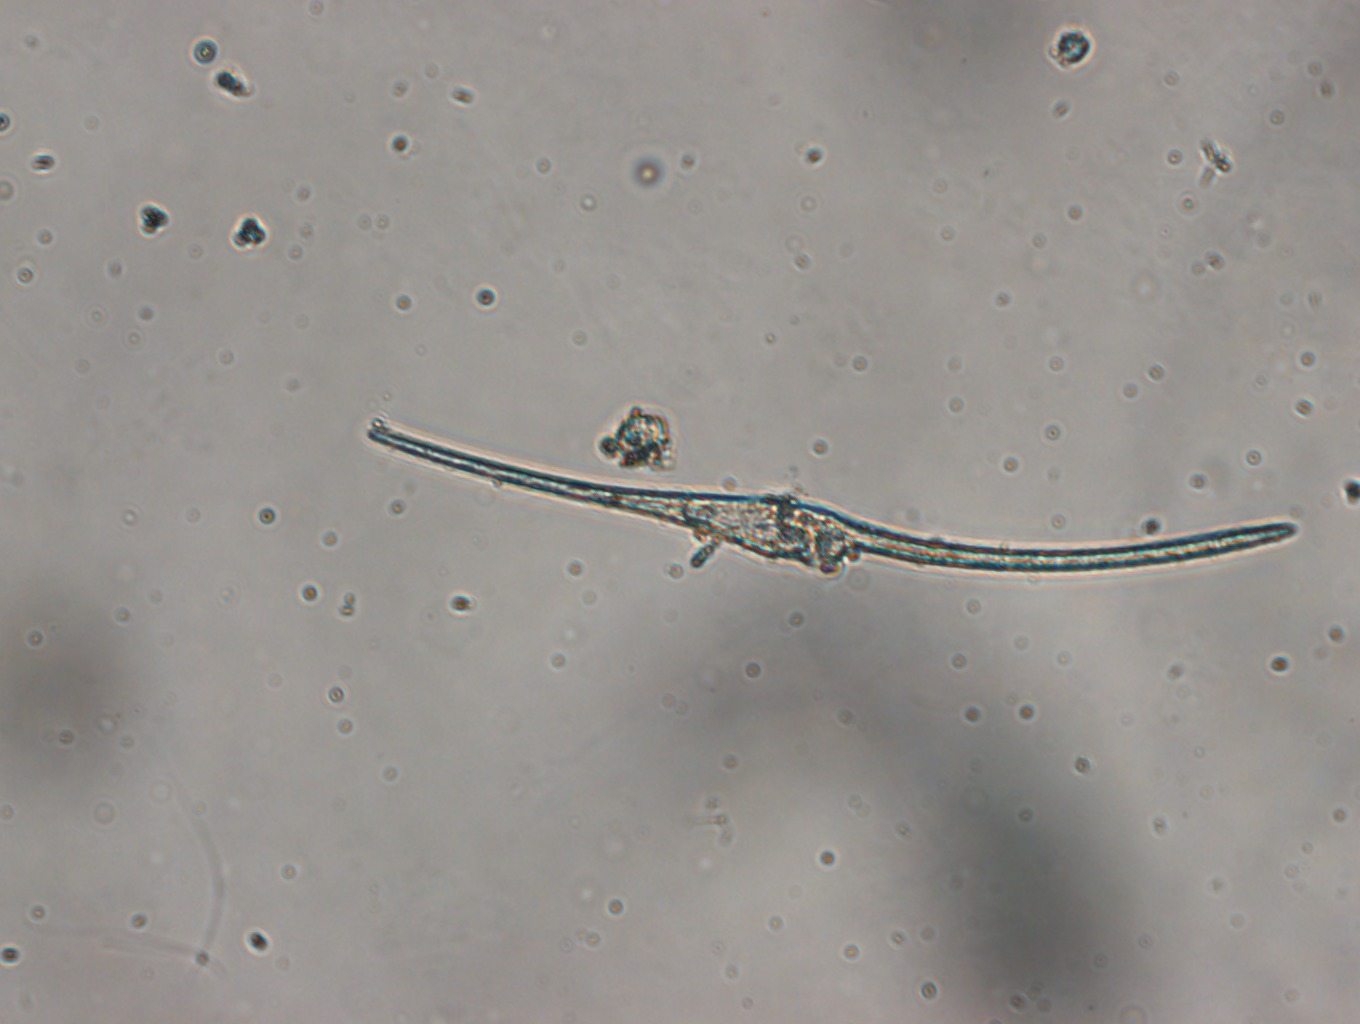ceratium fusus: (367, 413, 1305, 596)
